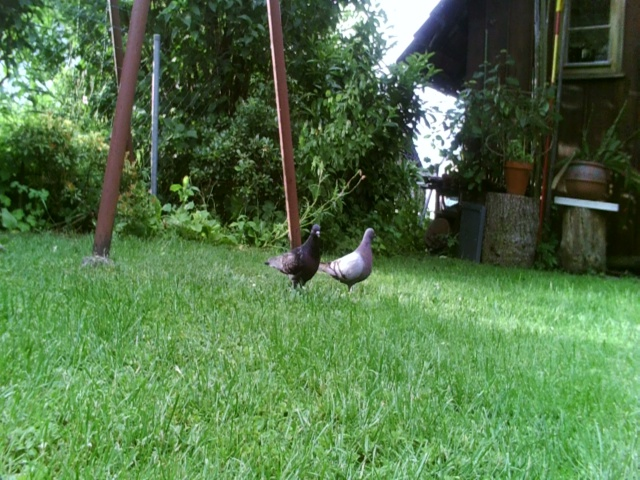Pigeon: (310, 222, 389, 296), (261, 222, 331, 289)
